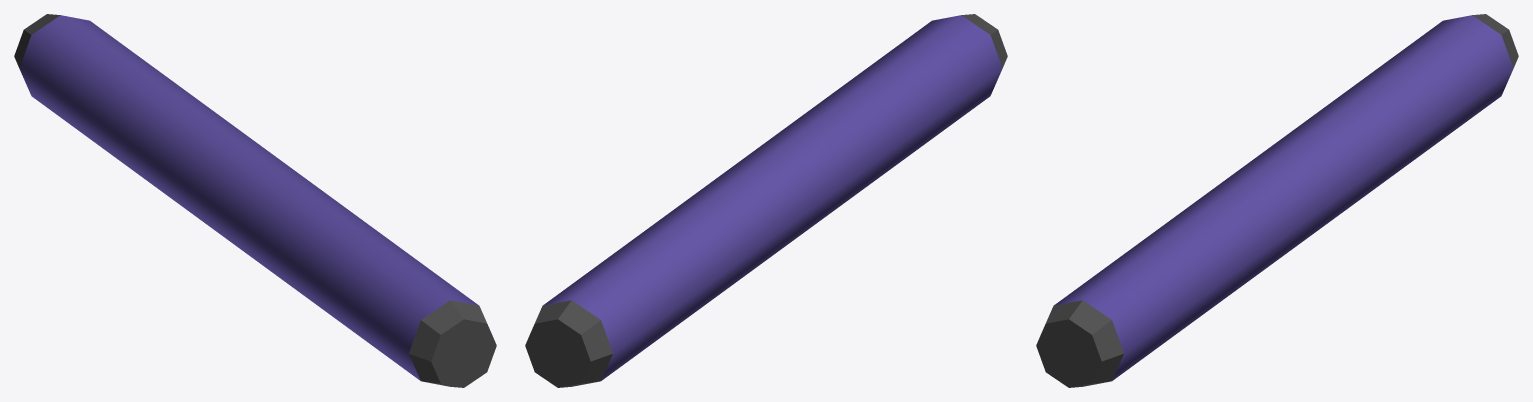
The model's file is rod_stick_4.FBX.
3 renders of one model, left to right at view 1: azimuth 30°, elevation 25°; view 2: azimuth 150°, elevation 25°; view 3: azimuth 330°, elevation 25°, orthographic.
Parts seen in each view (by area): view 1: rod_stick_4; view 2: rod_stick_4; view 3: rod_stick_4.
Boxes of the visible parts, x1,y1,x2,y2 form: rod_stick_4: (14, 14, 496, 387); rod_stick_4: (525, 14, 1007, 387); rod_stick_4: (1036, 14, 1518, 387).
Size of the model in its own units: 3.11 by 3.11 by 27.12.
